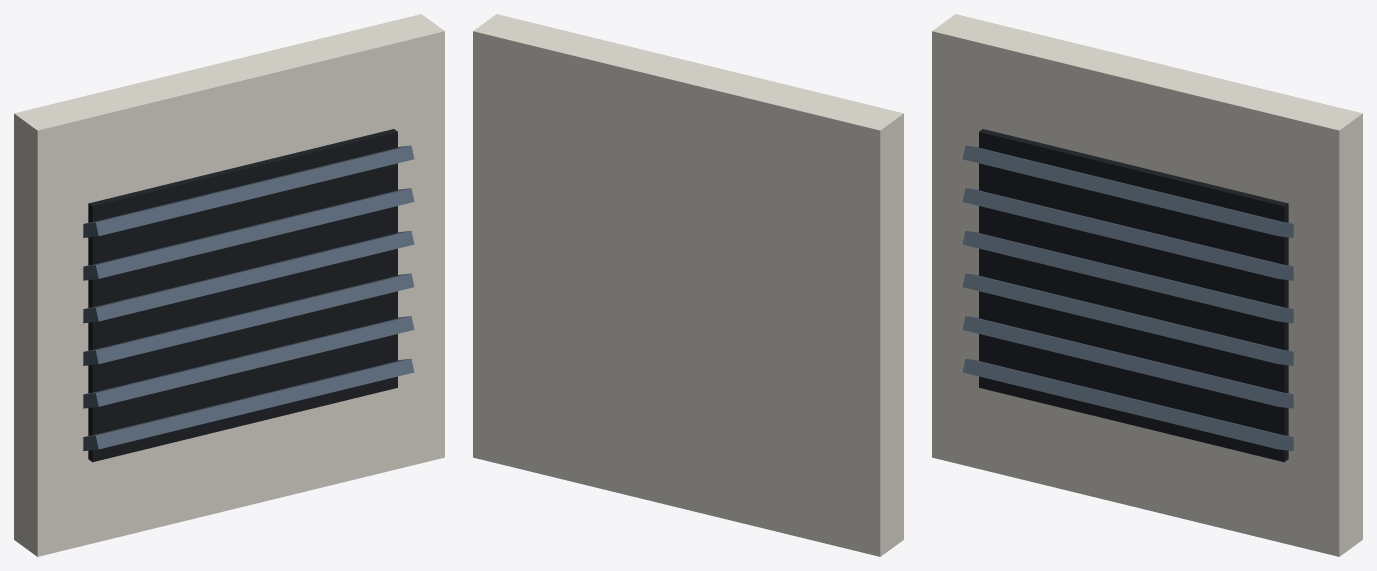
File: robot_armor_plate_vented.glb
3 views of the same model, side by side, from view 1: azimuth 30°, elevation 25°; view 2: azimuth 150°, elevation 25°; view 3: azimuth 330°, elevation 25° (orthographic).
Parts seen in each view (by area): view 1: robot_armor_plate_vented_armor, robot_armor_plate_vented_black, robot_armor_plate_vented_steel; view 2: robot_armor_plate_vented_armor; view 3: robot_armor_plate_vented_armor, robot_armor_plate_vented_black, robot_armor_plate_vented_steel.
Boxes of the visible parts, bbox=[...] form: robot_armor_plate_vented_armor: bbox=[14, 14, 444, 556]; robot_armor_plate_vented_black: bbox=[88, 129, 397, 462]; robot_armor_plate_vented_steel: bbox=[83, 145, 414, 451]; robot_armor_plate_vented_armor: bbox=[473, 14, 903, 556]; robot_armor_plate_vented_armor: bbox=[932, 14, 1362, 556]; robot_armor_plate_vented_black: bbox=[979, 129, 1288, 462]; robot_armor_plate_vented_steel: bbox=[962, 145, 1293, 451].
Bounding box in the file's own units: 4 × 4 × 0.6613.
